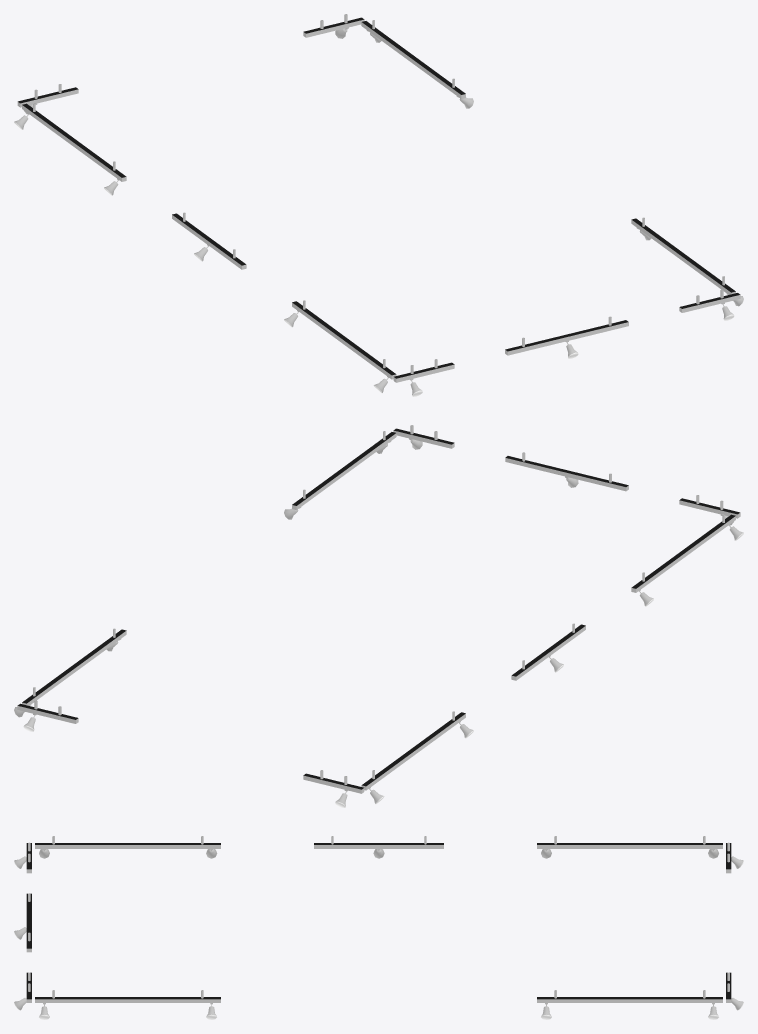
Rendered from west-light.glb.
The picture shows the model from 3 angles, top to bottom: view 1: azimuth 30°, elevation 25°; view 2: azimuth 150°, elevation 25°; view 3: azimuth 270°, elevation 25°; orthographic projection. The views are drawn at different scales.
Parts seen in each view (by area): view 1: Hall West Track Lighting; view 2: Hall West Track Lighting; view 3: Hall West Track Lighting.
Boxes of the visible parts, x1,y1,x2,y2 form: Hall West Track Lighting: [14, 14, 743, 396]; Hall West Track Lighting: [14, 425, 743, 807]; Hall West Track Lighting: [14, 836, 743, 1019].
Size of the model in its own units: 7.09 by 0.5072 by 13.09.
1 material, 1 textured.
